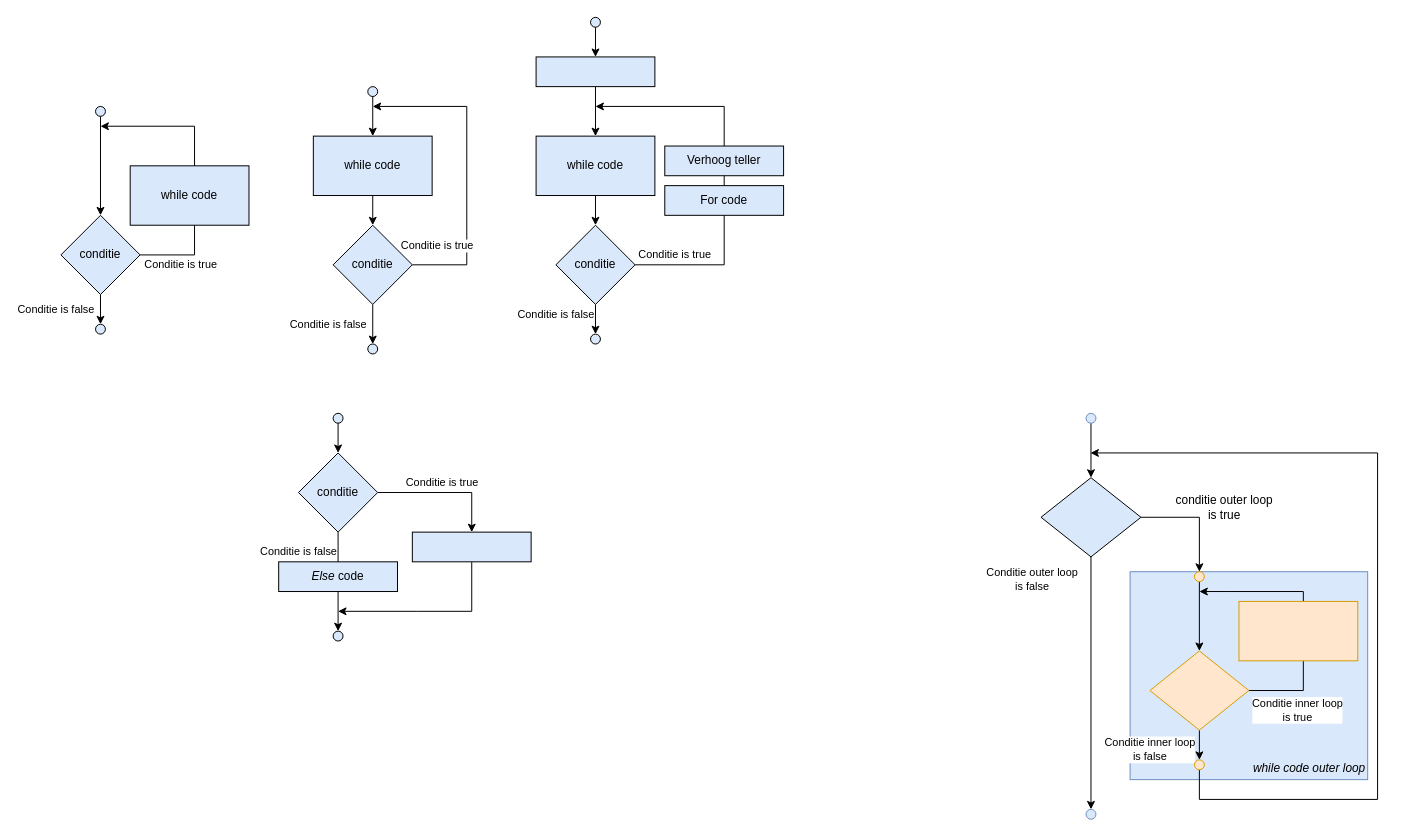
The diagram is 1403 pixels wide and 837 high, and some of its shapes have lost their labels. The centre of each missing label's shape, as x and y in pixels:
"conditie inner loop" belongs at point (1199, 690).
"conditie outer loop" belongs at point (1090, 517).
"declareer teller" belongs at point (595, 71).
"If code" belongs at point (471, 546).
"while code inner loop" belongs at point (1298, 630).
